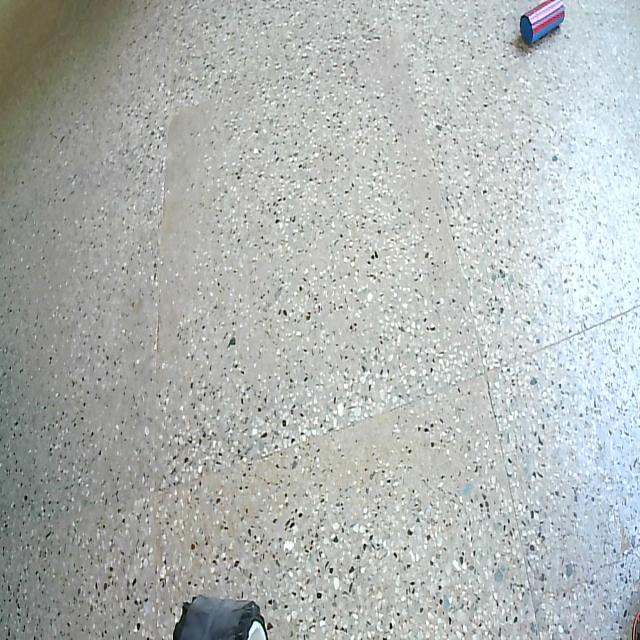cylinder: (512, 0, 569, 50)
